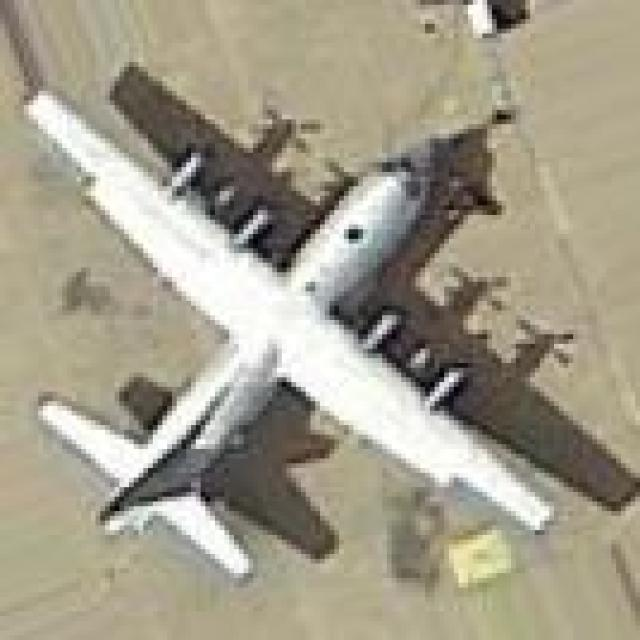C-130_TopDown: (16, 53, 640, 587)
